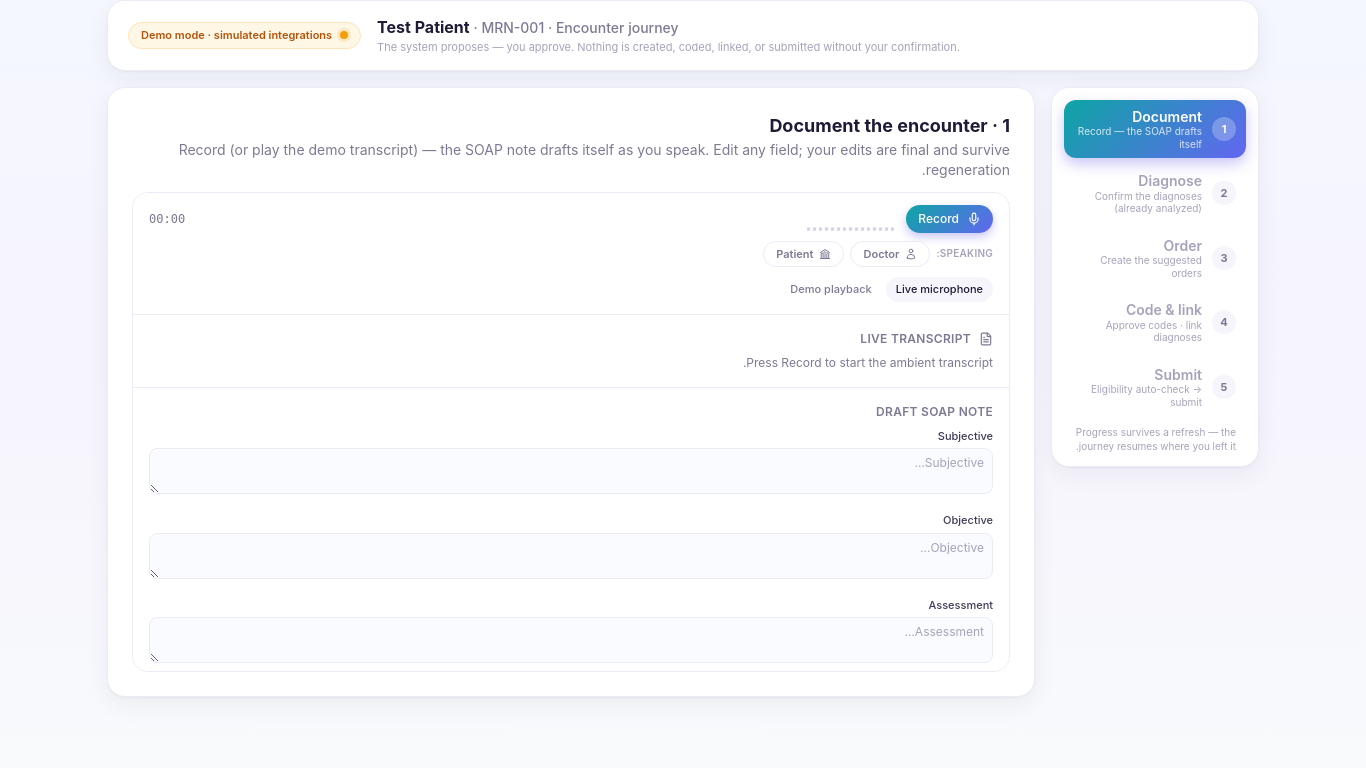
Test case: JourneyView › stage 2 shows documented diagnoses as on-file and completes immediately
What coordinates should you click on to do the following:
click the button with test id "journey-stage-diagnose"
I would click on:
 (1155, 193)
Its box is [1064, 164, 1246, 222].
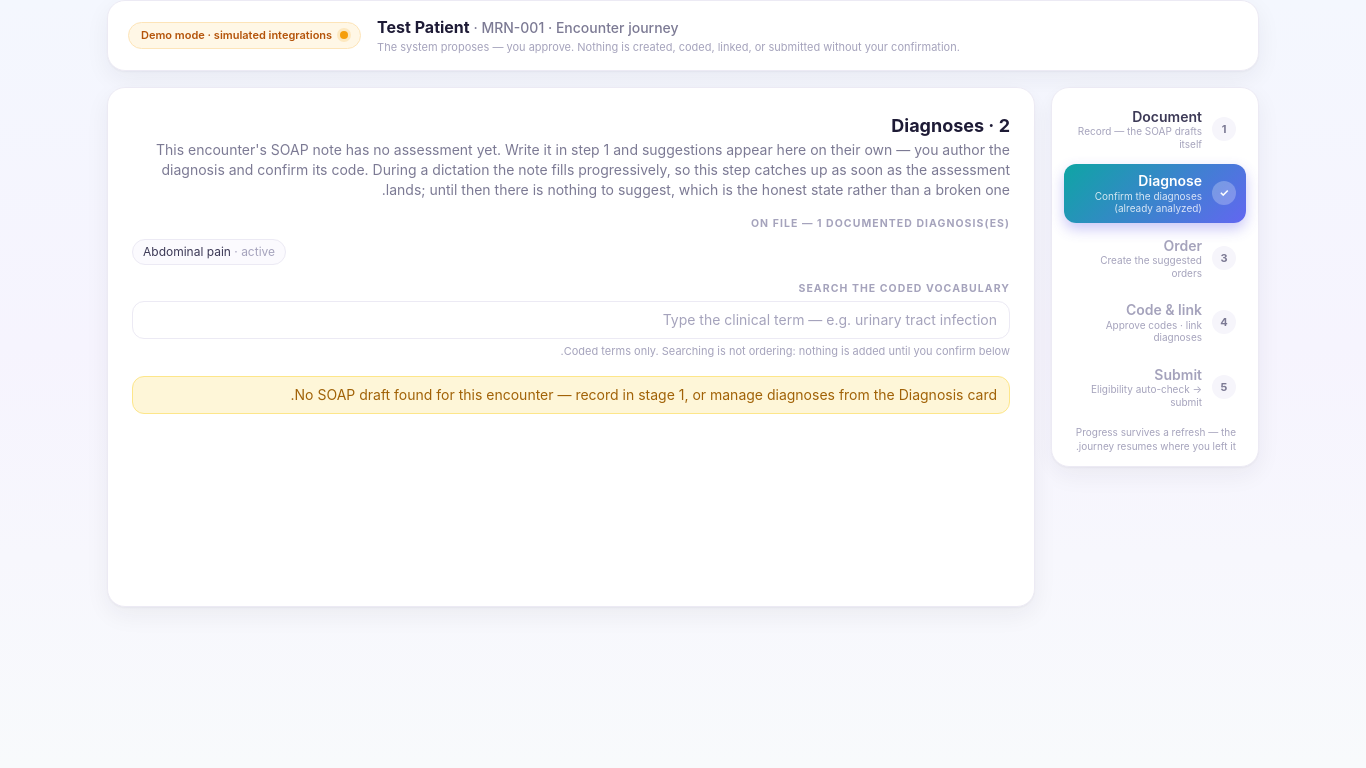
Now the element with test id "journey-stage-panel-diagnose" is shown, box [132, 112, 1010, 414]
Now the heading "On file — 1 documented diagnosis(es)" is shown, box [751, 216, 1010, 230]
Now the button with test id "journey-stage-diagnose" shows "✓", box [1064, 164, 1246, 222]
